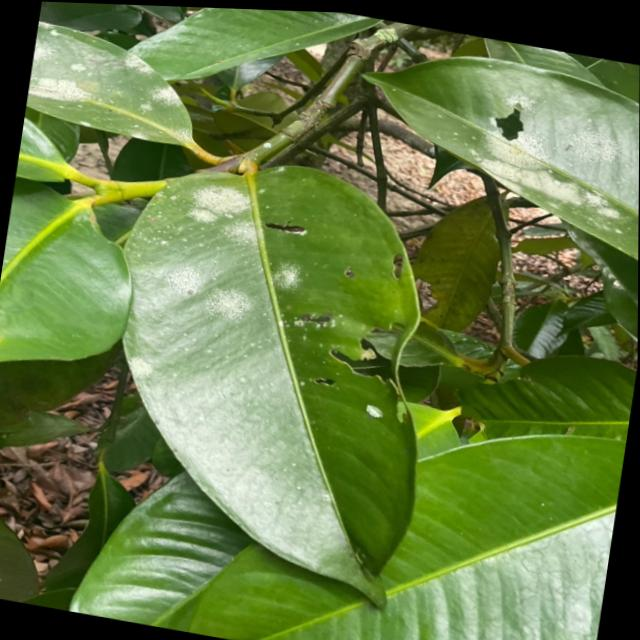Leaf Spot: (175, 165, 309, 305), (29, 20, 175, 138), (465, 140, 639, 223)
